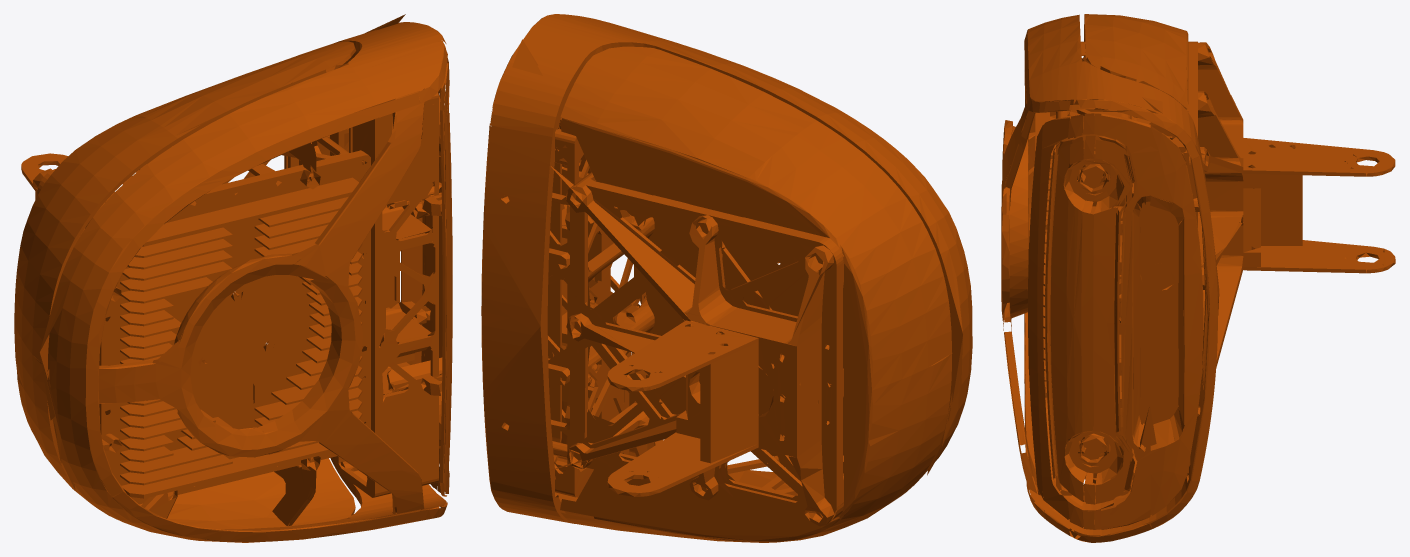
Rendered from head.stl.obj.
3 views of the same model, side by side, from view 1: azimuth 30°, elevation 25°; view 2: azimuth 150°, elevation 25°; view 3: azimuth 270°, elevation 25° (orthographic). The views are drawn at different scales.
Parts seen in each view (by area): view 1: <STL_BINARY>; view 2: <STL_BINARY>; view 3: <STL_BINARY>.
Part boxes in pixels (left/top/right/bottom): <STL_BINARY>: left=14, top=14, right=452, bottom=542; <STL_BINARY>: left=481, top=14, right=972, bottom=542; <STL_BINARY>: left=1001, top=14, right=1395, bottom=542.
Size of the model in its own units: 0.226 by 0.2482 by 0.2.
